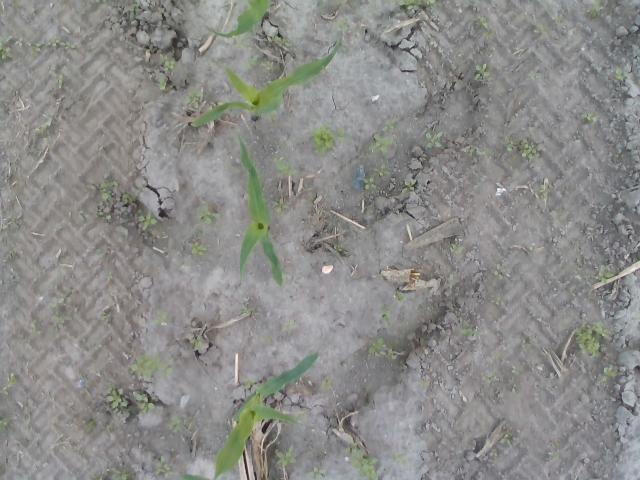Maize: (212, 352, 320, 480), (188, 40, 342, 126), (237, 132, 286, 286), (204, 0, 272, 37)
Weeds: (309, 121, 352, 158), (573, 318, 610, 358), (346, 441, 382, 480), (126, 350, 176, 377), (16, 38, 76, 56), (368, 128, 399, 160), (192, 202, 222, 226), (164, 414, 200, 433), (102, 384, 130, 408), (132, 390, 158, 413), (272, 153, 296, 177), (136, 209, 160, 231), (472, 15, 493, 40), (0, 372, 17, 402), (518, 137, 540, 160), (97, 177, 119, 200), (424, 128, 444, 152), (153, 455, 173, 478), (458, 318, 481, 338), (462, 145, 495, 158), (238, 54, 258, 74), (595, 263, 616, 282), (46, 302, 64, 324), (0, 35, 14, 63), (272, 448, 296, 464), (158, 52, 176, 73), (150, 308, 168, 328), (398, 0, 434, 10), (183, 86, 203, 103), (190, 240, 210, 256), (472, 64, 492, 80), (367, 335, 385, 352), (270, 30, 288, 47), (374, 160, 392, 176), (272, 196, 290, 212), (48, 73, 66, 89), (304, 467, 326, 480), (382, 303, 397, 322), (602, 366, 617, 384), (498, 432, 514, 448), (482, 367, 497, 384), (33, 122, 50, 137), (492, 262, 506, 280), (363, 176, 378, 192), (98, 207, 114, 222), (383, 118, 400, 132), (335, 15, 349, 32), (110, 467, 128, 480), (401, 178, 416, 193), (611, 68, 627, 82), (552, 13, 568, 27), (392, 290, 408, 304), (448, 243, 464, 256), (320, 378, 336, 390), (502, 136, 514, 152), (120, 192, 136, 204), (392, 452, 408, 464), (239, 307, 256, 318), (537, 182, 550, 196), (489, 294, 504, 306), (86, 418, 97, 434), (30, 320, 40, 337), (591, 0, 601, 17), (95, 247, 112, 257), (190, 336, 203, 349), (242, 377, 256, 389), (580, 111, 594, 123), (0, 415, 9, 433), (446, 270, 455, 288), (534, 22, 550, 32), (548, 450, 560, 462), (385, 350, 399, 360), (286, 318, 297, 330), (159, 80, 169, 92), (488, 446, 498, 458), (262, 60, 272, 71), (526, 70, 536, 80), (12, 0, 22, 9), (97, 312, 108, 320), (334, 244, 345, 252), (95, 0, 112, 5), (520, 336, 526, 350), (293, 410, 305, 417), (511, 366, 521, 374), (104, 272, 112, 280), (94, 475, 104, 480), (415, 378, 422, 385), (634, 256, 640, 261)
